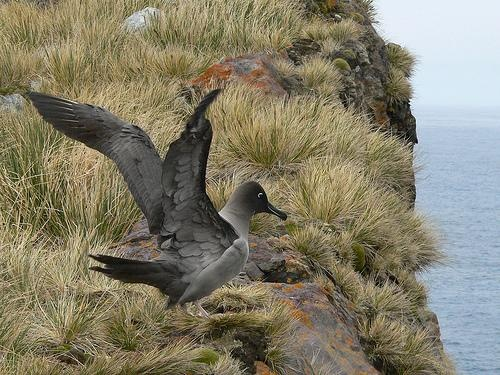bird: (25, 88, 291, 320)
